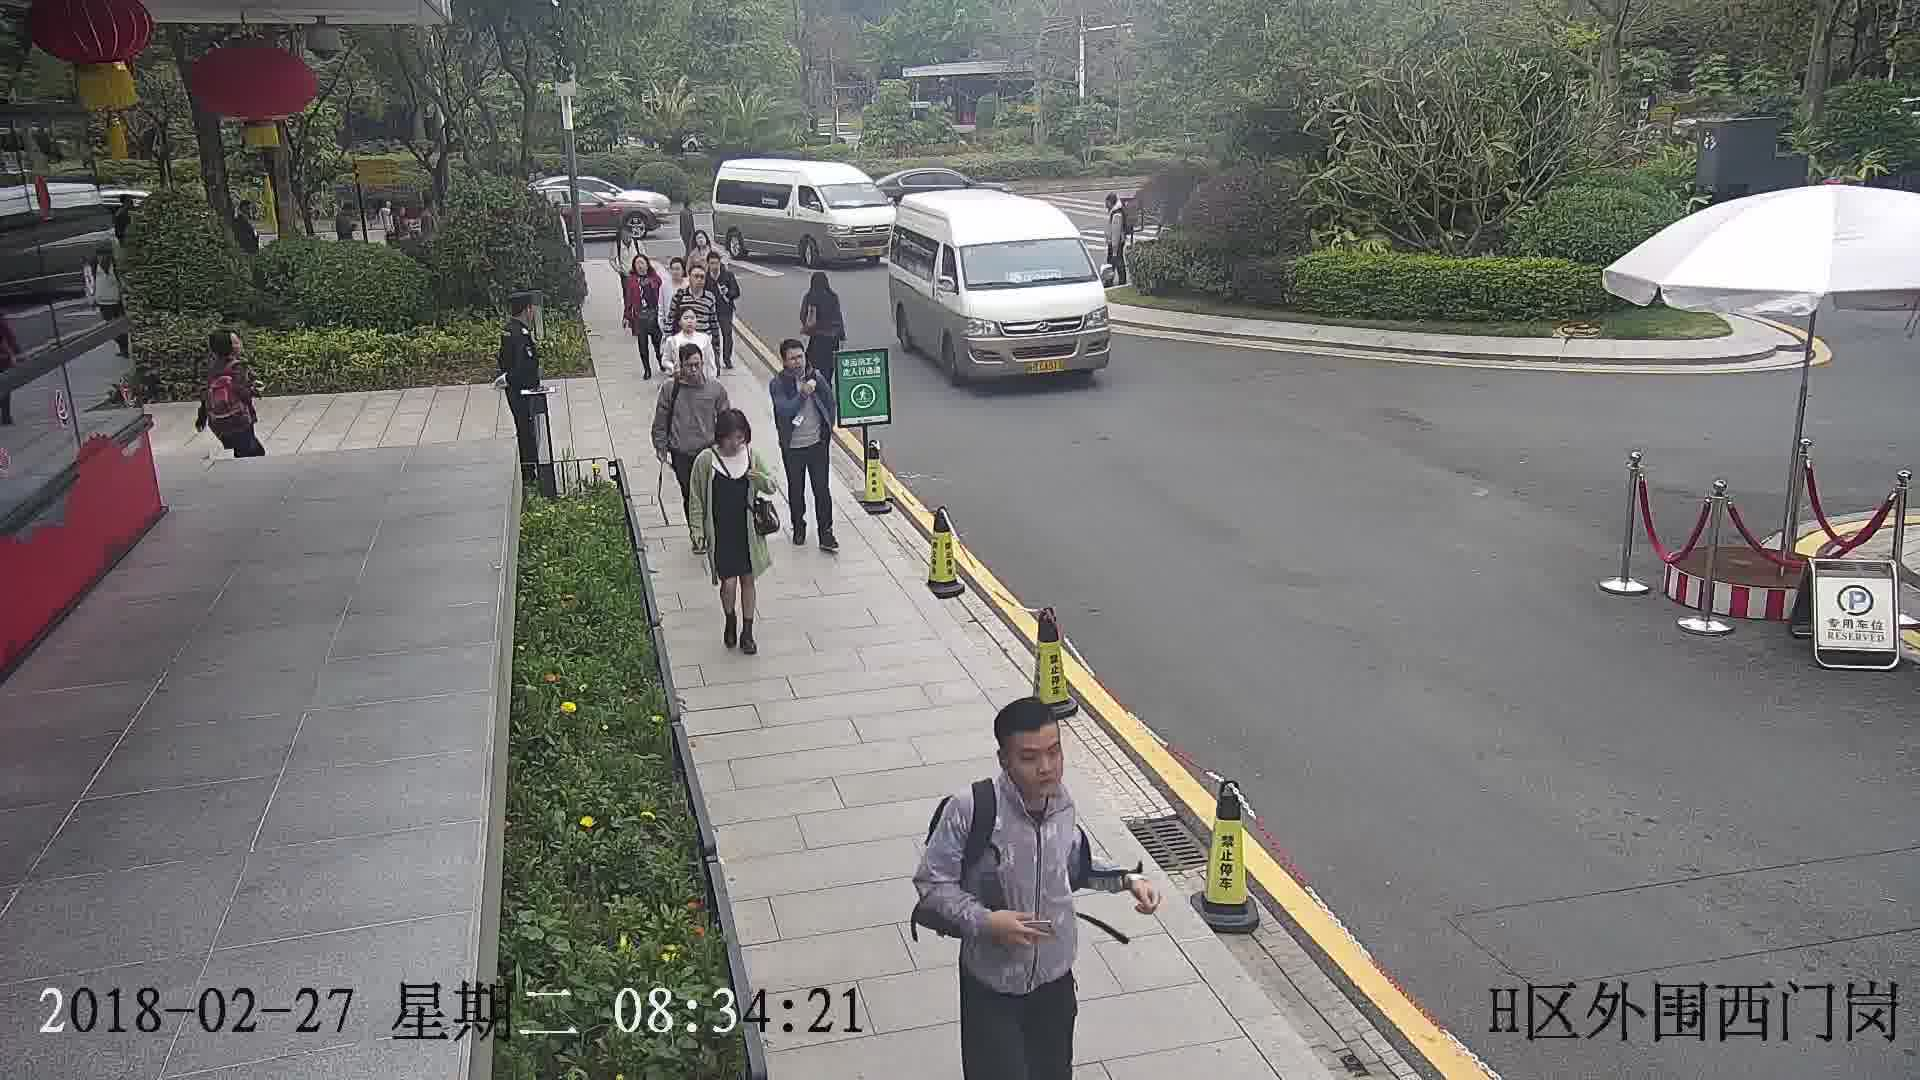face: (999, 724, 1073, 797)
person: (935, 697, 1094, 849), (697, 408, 757, 475), (661, 341, 723, 399), (769, 334, 826, 394), (204, 329, 251, 382), (500, 293, 538, 346), (801, 266, 842, 308), (667, 308, 707, 350), (679, 268, 712, 302), (627, 249, 658, 284), (609, 222, 645, 252), (704, 246, 733, 283), (662, 258, 690, 294), (1097, 184, 1124, 219), (688, 229, 719, 258), (675, 191, 701, 218)
